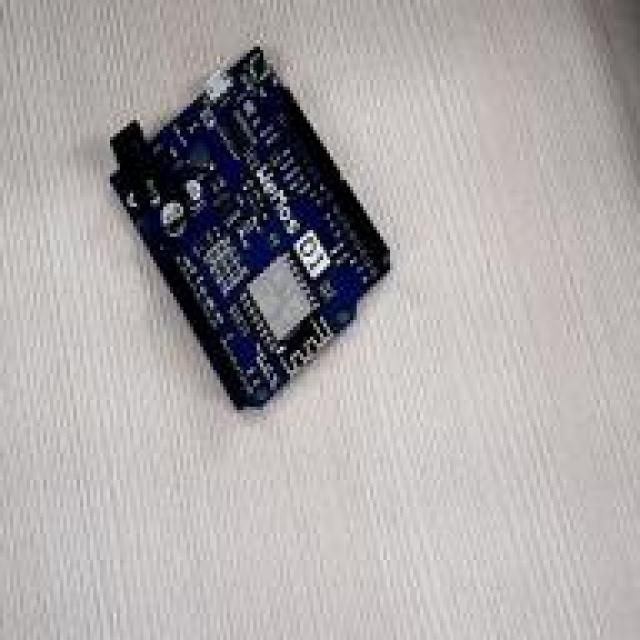Wemos: (111, 48, 388, 408)
